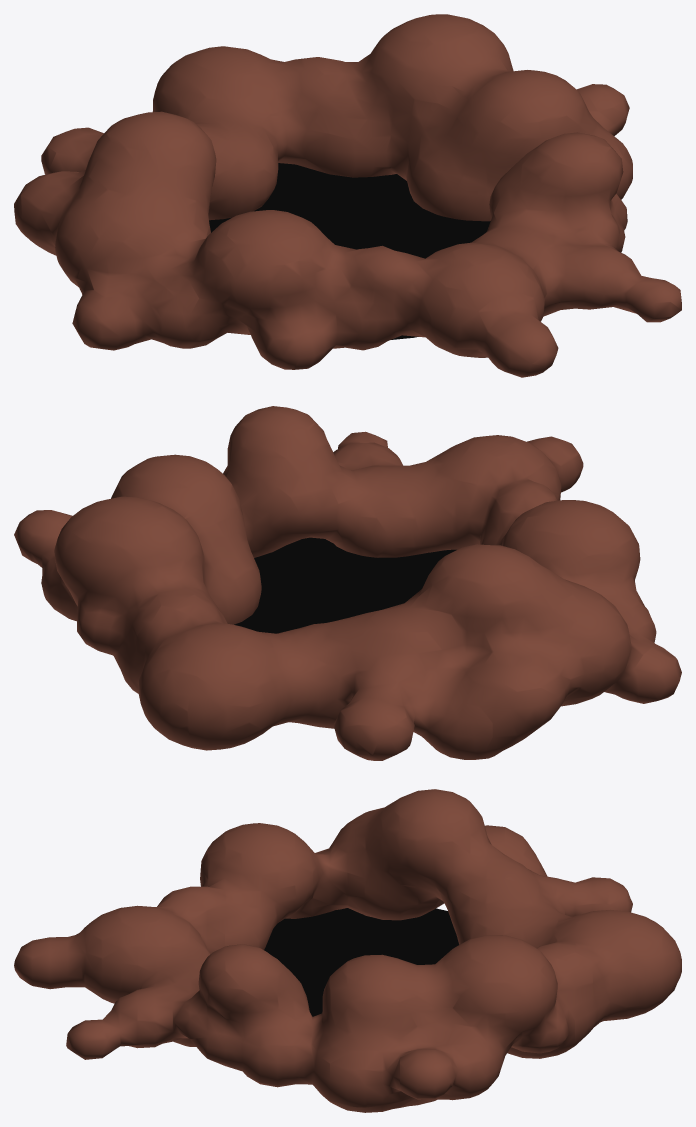
File: hole.fbx
3 views of the same model, one above another, from view 1: azimuth 30°, elevation 25°; view 2: azimuth 150°, elevation 25°; view 3: azimuth 270°, elevation 25° (orthographic). The views are drawn at different scales.
Parts seen in each view (by area): view 1: Hole; view 2: Hole; view 3: Hole.
Part boxes in pixels (x1=…): Hole: x1=14, y1=14, x2=681, y2=377; Hole: x1=14, y1=406, x2=681, y2=760; Hole: x1=14, y1=789, x2=681, y2=1112.
Size of the model in its own units: 190 by 53.97 by 204.
